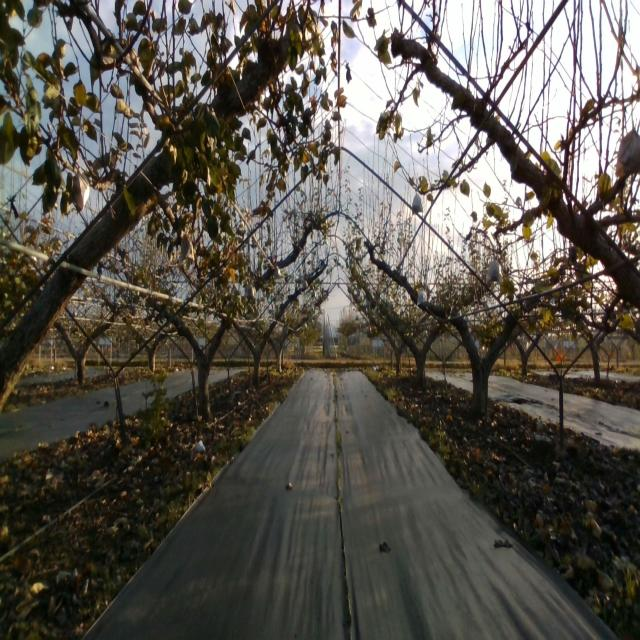pearbags: (615, 118, 640, 180), (71, 159, 91, 211), (180, 232, 194, 262), (486, 259, 500, 285), (412, 189, 424, 216), (416, 288, 427, 306)
